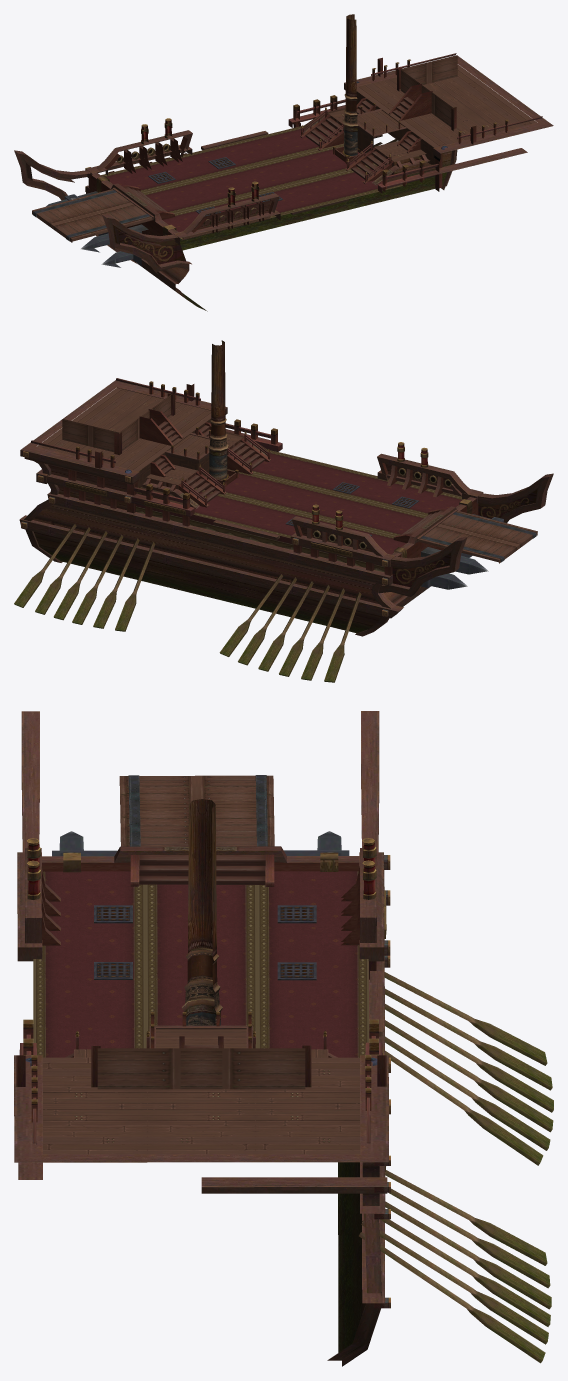
The picture shows the model from 3 angles, top to bottom: view 1: azimuth 30°, elevation 25°; view 2: azimuth 150°, elevation 25°; view 3: azimuth 270°, elevation 25°; orthographic projection. The views are drawn at different scales.
Parts seen in each view (by area): view 1: polySurface638; view 2: polySurface638; view 3: polySurface638.
Boxes of the visible parts, box(x1,y1,x2,y2) form: polySurface638: box(14, 14, 553, 311); polySurface638: box(14, 340, 553, 682); polySurface638: box(14, 711, 553, 1366).
Size of the model in its own units: 145 by 70.55 by 76.38.
1 material, 1 textured.
